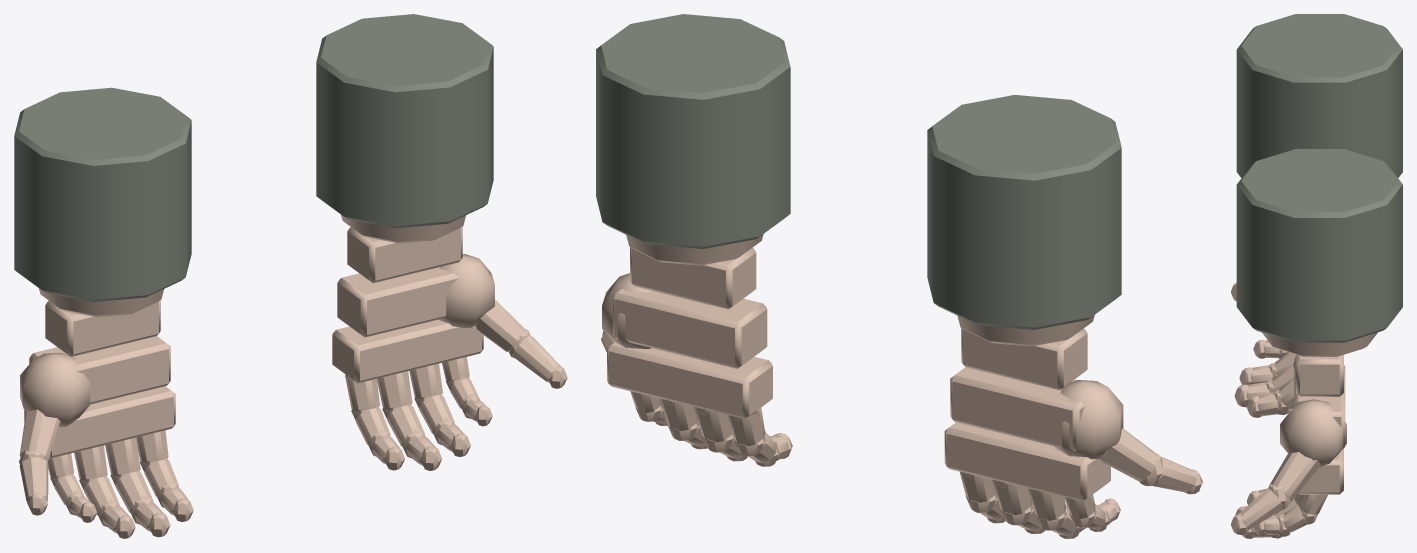
The model's file is hands_lowpoly.glb.
3 renders of one model, left to right at view 1: azimuth 30°, elevation 25°; view 2: azimuth 150°, elevation 25°; view 3: azimuth 270°, elevation 25°, orthographic. The views are drawn at different scales.
Visible parts, largest first — view 1: hand_R, hand_L; view 2: hand_L, hand_R; view 3: hand_R, hand_L.
Boxes of the visible parts, x1,y1,x2,y2 form: hand_R: (316,14,567,470); hand_L: (14,87,193,538); hand_L: (927,95,1202,538); hand_R: (596,14,792,466); hand_R: (1231,149,1402,538); hand_L: (1231,14,1402,417).
Bounding box in the file's own units: 0.3561 × 0.245 × 0.1076.
